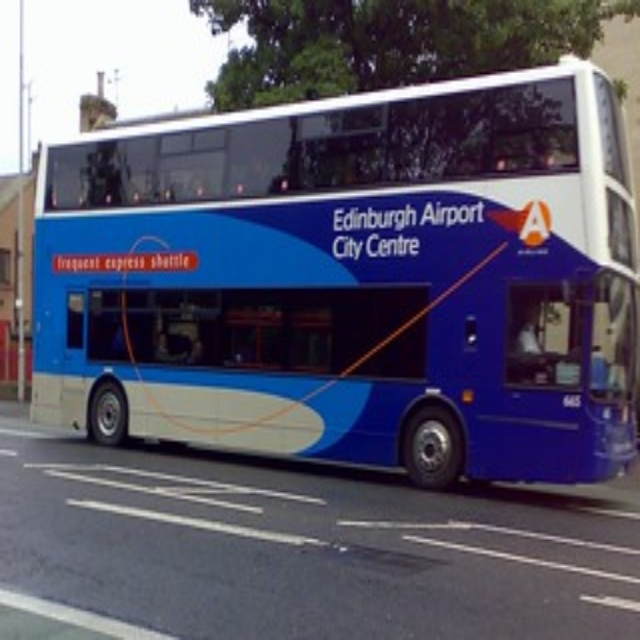Bus: (28, 52, 640, 493)
